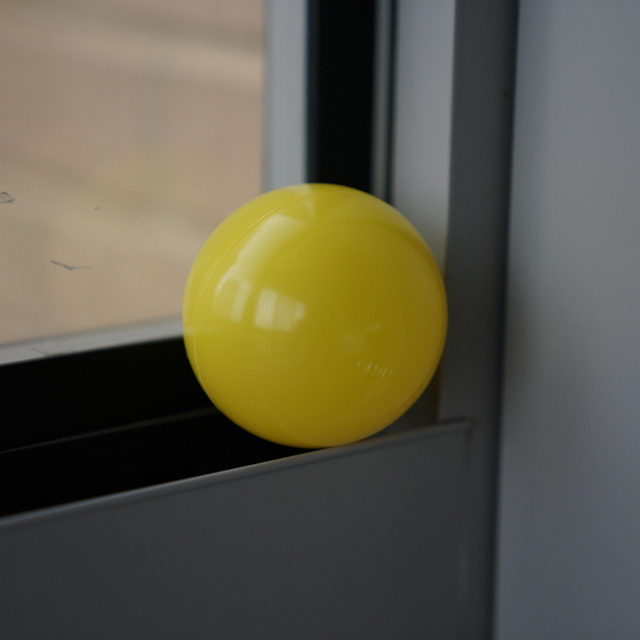Ball: (180, 184, 449, 446)
